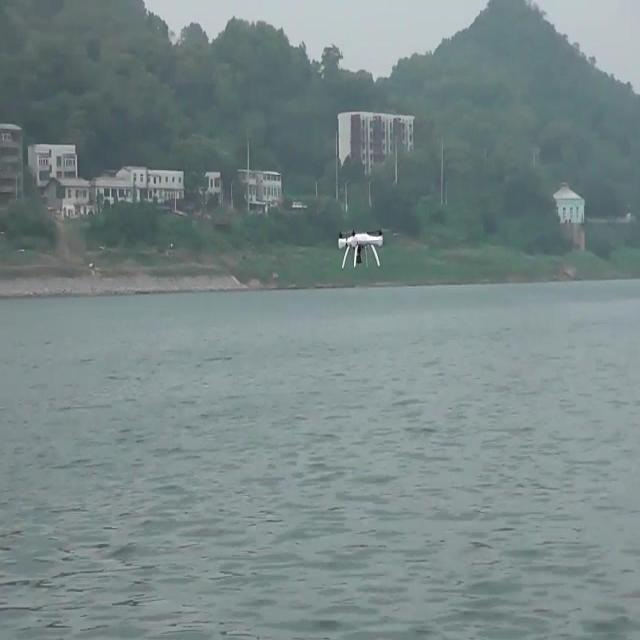drone: (336, 225, 388, 274)
